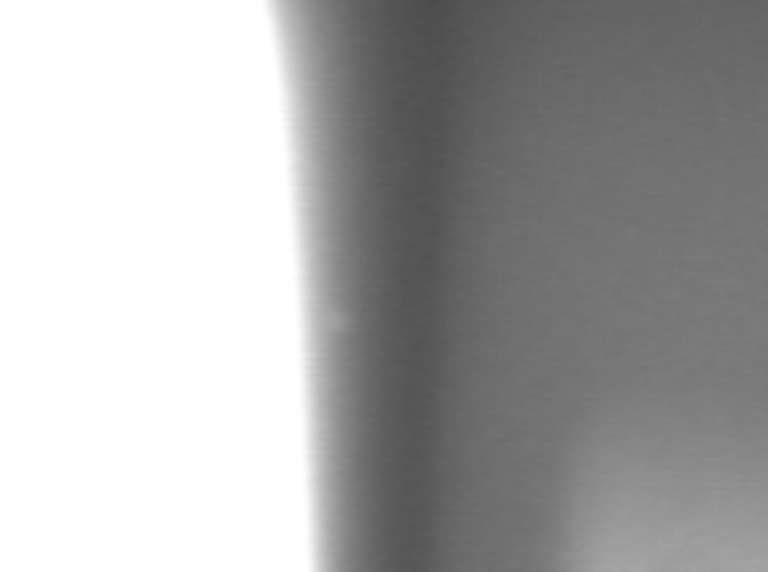defect: (319, 312, 362, 341)
